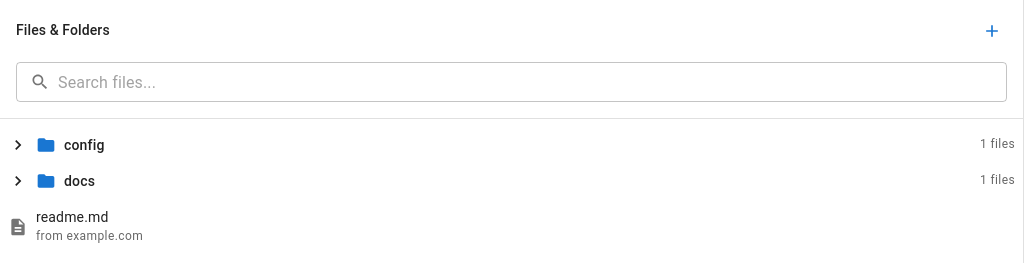
Test case: FileExplorer › should filter files based on search term
Expected: the text "readme.md" is shown, [36,209,108,225]
Expected: the text "config" is shown, [64,137,104,153]
// Search for 'config'
Type "config" into the field with placeholder "Search files...".
click(532, 82); type("config")  # box [58,62,1007,102]
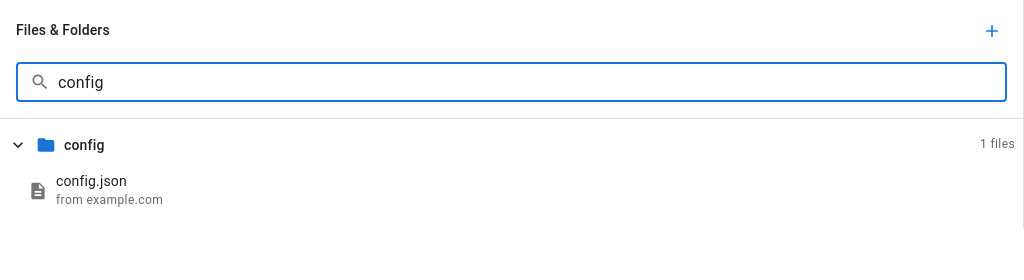
Expected: the text "config" is shown, [64,137,104,153]
Result: the text "readme.md" is gone
Result: the text "docs" is gone
